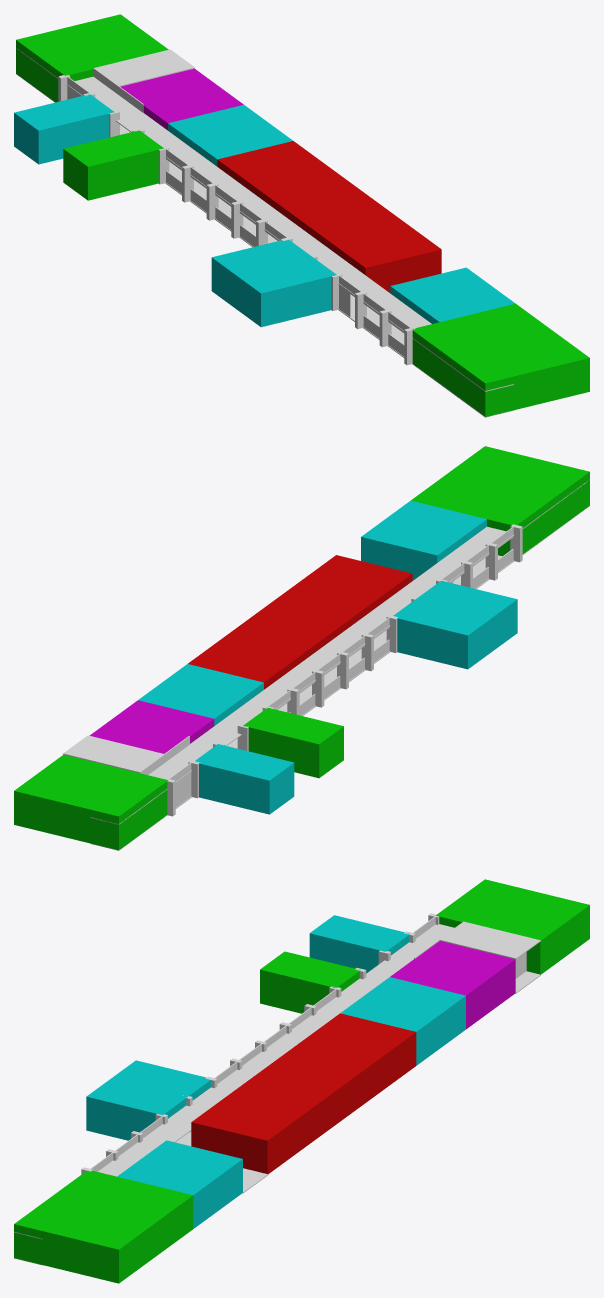
The model's file is BaseModel_Ver2_1F.fbx.
3 views of the same model, one above another, from view 1: azimuth 30°, elevation 25°; view 2: azimuth 150°, elevation 25°; view 3: azimuth 330°, elevation 25° (orthographic).
Visible parts, largest first — view 1: 職員室, 部屋.002, 部屋.005, 床.003, 部屋, 部屋.003, 部屋.004, 校長室, 部屋.001, 事務室, 床.004, 床.000 (+3 smaller); view 2: 職員室, 部屋, 部屋.002, 部屋.005, 床.003, 部屋.001, 部屋.004, 部屋.003, 校長室, 事務室, 床.004, 床.000 (+3 smaller); view 3: 職員室, 部屋.002, 部屋, 床.003, 部屋.005, 部屋.001, 校長室, 事務室, 部屋.003, 部屋.004, 床.004, Cube.017 (+1 smaller).
Boxes of the visible parts, x1,y1,x2,y2 form: 職員室: (217, 141, 441, 292); 部屋.002: (412, 303, 589, 417); 部屋.005: (211, 240, 336, 327); 床.003: (17, 48, 513, 391); 部屋: (16, 14, 168, 102); 部屋.003: (63, 130, 163, 200); 部屋.004: (14, 94, 113, 164); 校長室: (168, 105, 292, 166); 部屋.001: (390, 267, 515, 323); 事務室: (120, 68, 243, 130); 床.004: (95, 49, 194, 86); 床.000: (16, 74, 513, 417); 職員室: (188, 555, 412, 689); 部屋: (14, 754, 168, 850); 部屋.002: (411, 446, 589, 556); 部屋.005: (393, 580, 517, 669); 床.003: (90, 479, 589, 824); 部屋.001: (361, 500, 486, 580); 部屋.004: (195, 744, 294, 814); 部屋.003: (243, 707, 343, 778); 校長室: (138, 664, 263, 725); 事務室: (90, 700, 214, 753); 床.004: (63, 735, 163, 772); 床.000: (90, 505, 589, 850); 職員室: (191, 1013, 416, 1174); 部屋.002: (14, 1170, 193, 1283); 部屋: (436, 879, 589, 974); 床.003: (14, 924, 454, 1239); 部屋.005: (86, 1060, 210, 1140); 部屋.001: (117, 1140, 242, 1228); 校長室: (340, 977, 465, 1065); 事務室: (390, 941, 515, 1029); 部屋.003: (260, 951, 360, 1013); 部屋.004: (309, 915, 409, 973); 床.004: (439, 921, 540, 959); Cube.017: (213, 989, 336, 1083).
Size of the model in its own units: 1905 by 354 by 8550.
